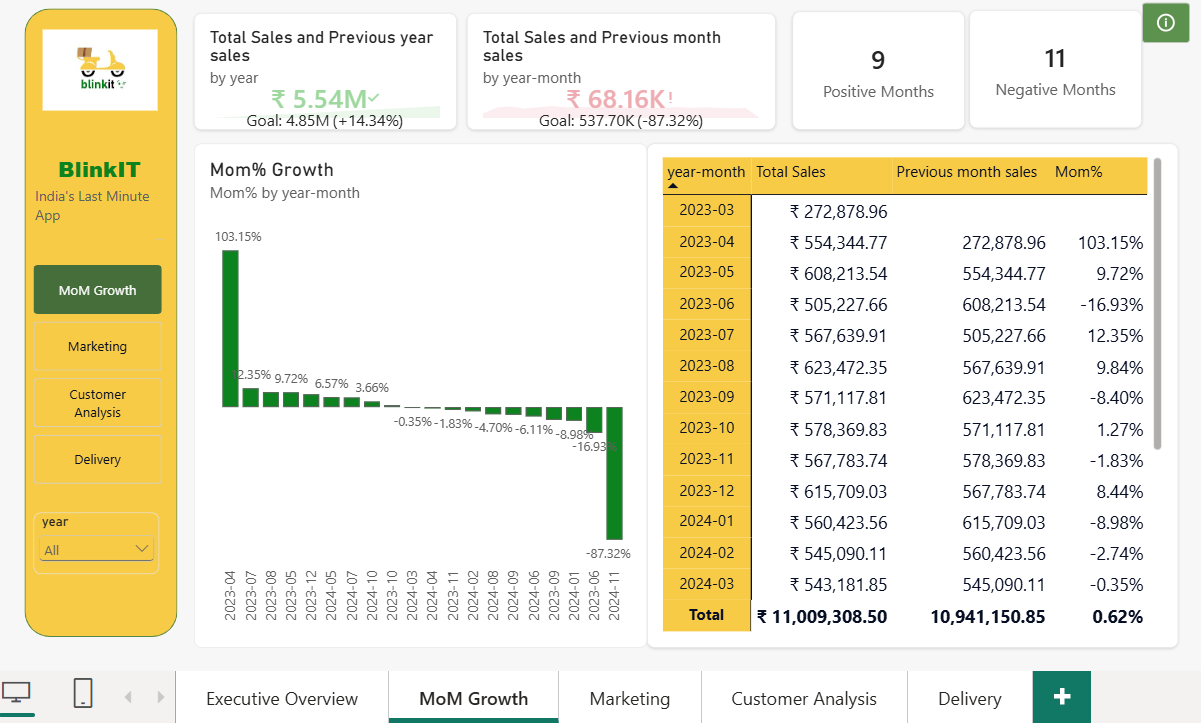

The dashboard page shown, as its layout file describes it:
{"tool":"powerbi","page":{"name":"MoM Growth","canvas":[1280,720],"ordinal":1},"visuals":[{"type":"kpi","fields":{"Goal":["blinkit_orders.Previous month sales"],"Indicator":["blinkit_orders.Total Sales"],"TrendLine":["Dimdate.year-month"]},"box":[496.3,22.3,327.7,124.1],"z":0},{"type":"shape","box":[27,17.3,162.2,666.5],"z":1000},{"type":"pageNavigator","box":[36.6,288.9,136.8,233.8],"z":2000},{"type":"card","fields":{"Values":["blinkit_orders.Positive Months"]},"box":[841.4,20.7,182.9,125.7],"z":3000},{"type":"textbox","title":"    BlinkIT","box":[38.5,171.4,136.8,90.7],"z":4000},{"type":"kpi","fields":{"Goal":["blinkit_orders.Previous year sales"],"Indicator":["blinkit_orders.Total Sales"],"TrendLine":["Dimdate.year"]},"box":[206.8,22.3,278.4,124.1],"z":5000},{"type":"slicer","fields":{"Values":["Dimdate.year"]},"box":[36.6,552.7,133.6,65.2],"z":6000},{"type":"image","box":[30.2,39.8,154.3,85.9],"z":7000},{"type":"actionButton","box":[1212,11.1,50.9,42.9],"z":8000},{"type":"pivotTable","fields":{"Rows":["Dimdate.year-month"],"Values":["blinkit_orders.Total Sales","blinkit_orders.Previous month sales","blinkit_orders.Mom%"]},"box":[687.1,160.7,563.1,534.4],"z":9000},{"type":"columnChart","title":"Mom% Growth","fields":{"Category":["Dimdate.year-month"],"Y":["blinkit_orders.Mom% Growth"]},"box":[206.8,160.7,480.4,534.4],"z":10000},{"type":"card","fields":{"Values":["blinkit_orders.Negative Scenario"]},"box":[1029.1,19.1,182.9,125.7],"z":11000}]}

Visuals, with their boxes on the page's 1280x720 design canvas (x1, y1, x2, y2). These are canvas units, not pixel positions in the 1201x723 screenshot, which may show the page scaled, cropped or inside an application window:
kpi - blinkit_orders.Previous month sales x blinkit_orders.Total Sales: [x1=496, y1=22, x2=824, y2=146]
shape: [x1=27, y1=17, x2=189, y2=684]
pageNavigator: [x1=37, y1=289, x2=173, y2=523]
card - blinkit_orders.Positive Months: [x1=841, y1=21, x2=1024, y2=146]
"    BlinkIT" textbox: [x1=38, y1=171, x2=175, y2=262]
kpi - blinkit_orders.Previous year sales x blinkit_orders.Total Sales: [x1=207, y1=22, x2=485, y2=146]
slicer - Dimdate.year: [x1=37, y1=553, x2=170, y2=618]
image: [x1=30, y1=40, x2=184, y2=126]
actionButton: [x1=1212, y1=11, x2=1263, y2=54]
pivotTable - Dimdate.year-month x blinkit_orders.Total Sales: [x1=687, y1=161, x2=1250, y2=695]
"Mom% Growth" columnChart: [x1=207, y1=161, x2=687, y2=695]
card - blinkit_orders.Negative Scenario: [x1=1029, y1=19, x2=1212, y2=145]
